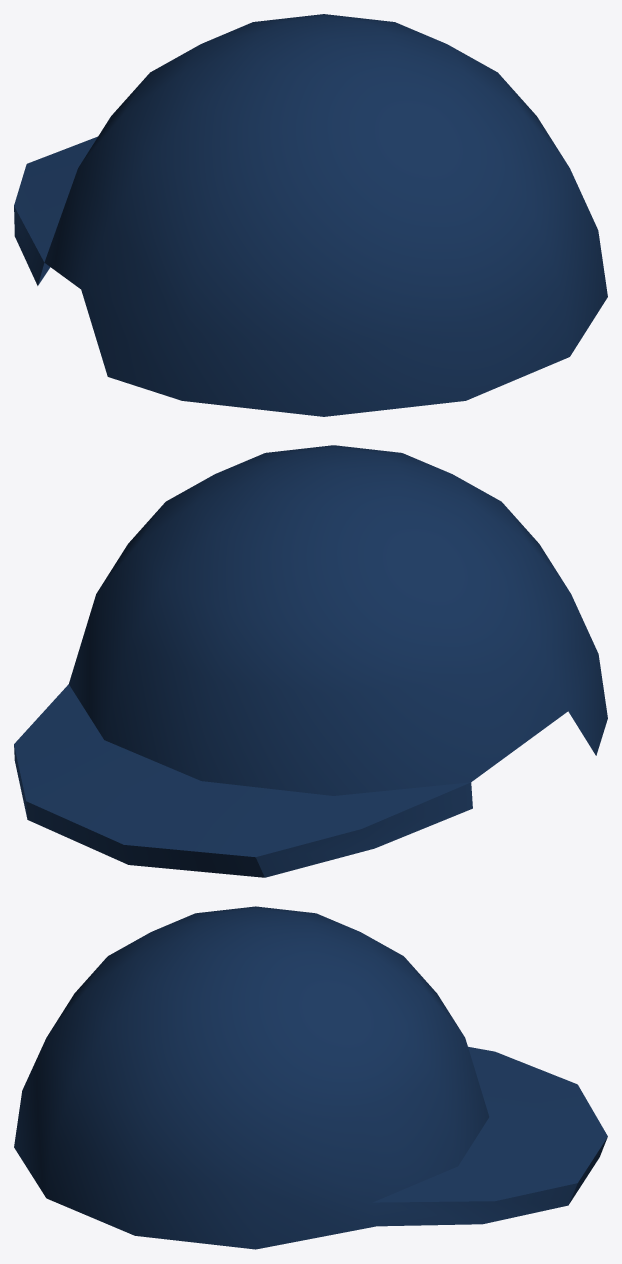
Rendered from cap.glb.
3 views of the same model, one above another, from view 1: azimuth 30°, elevation 25°; view 2: azimuth 150°, elevation 25°; view 3: azimuth 270°, elevation 25° (orthographic). The views are drawn at different scales.
Parts seen in each view (by area): view 1: cap; view 2: cap; view 3: cap.
Boxes of the visible parts, x1,y1,x2,y2 form: cap: (14, 14, 607, 416); cap: (14, 445, 607, 877); cap: (14, 906, 607, 1249).
Size of the model in its own units: 0.4759 by 0.2449 by 0.5868.
